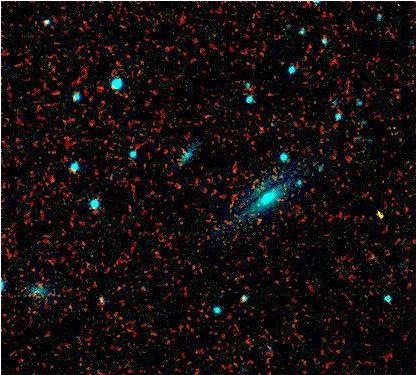star: (362, 196, 392, 226)
